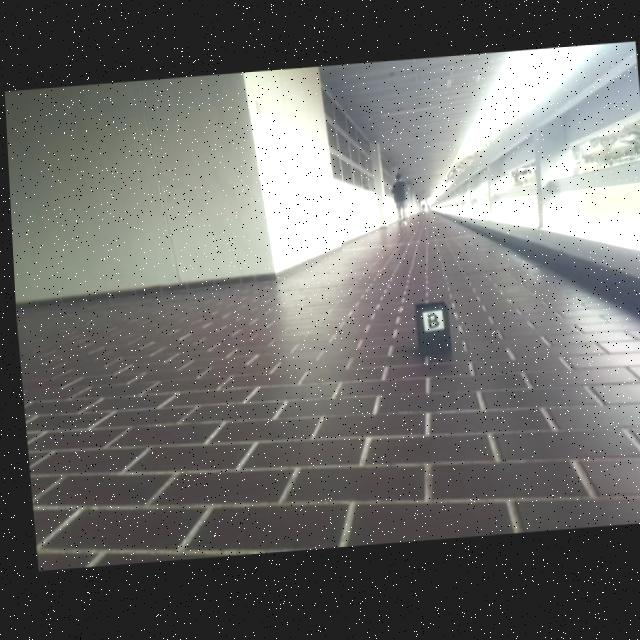B: (422, 317, 436, 333)
